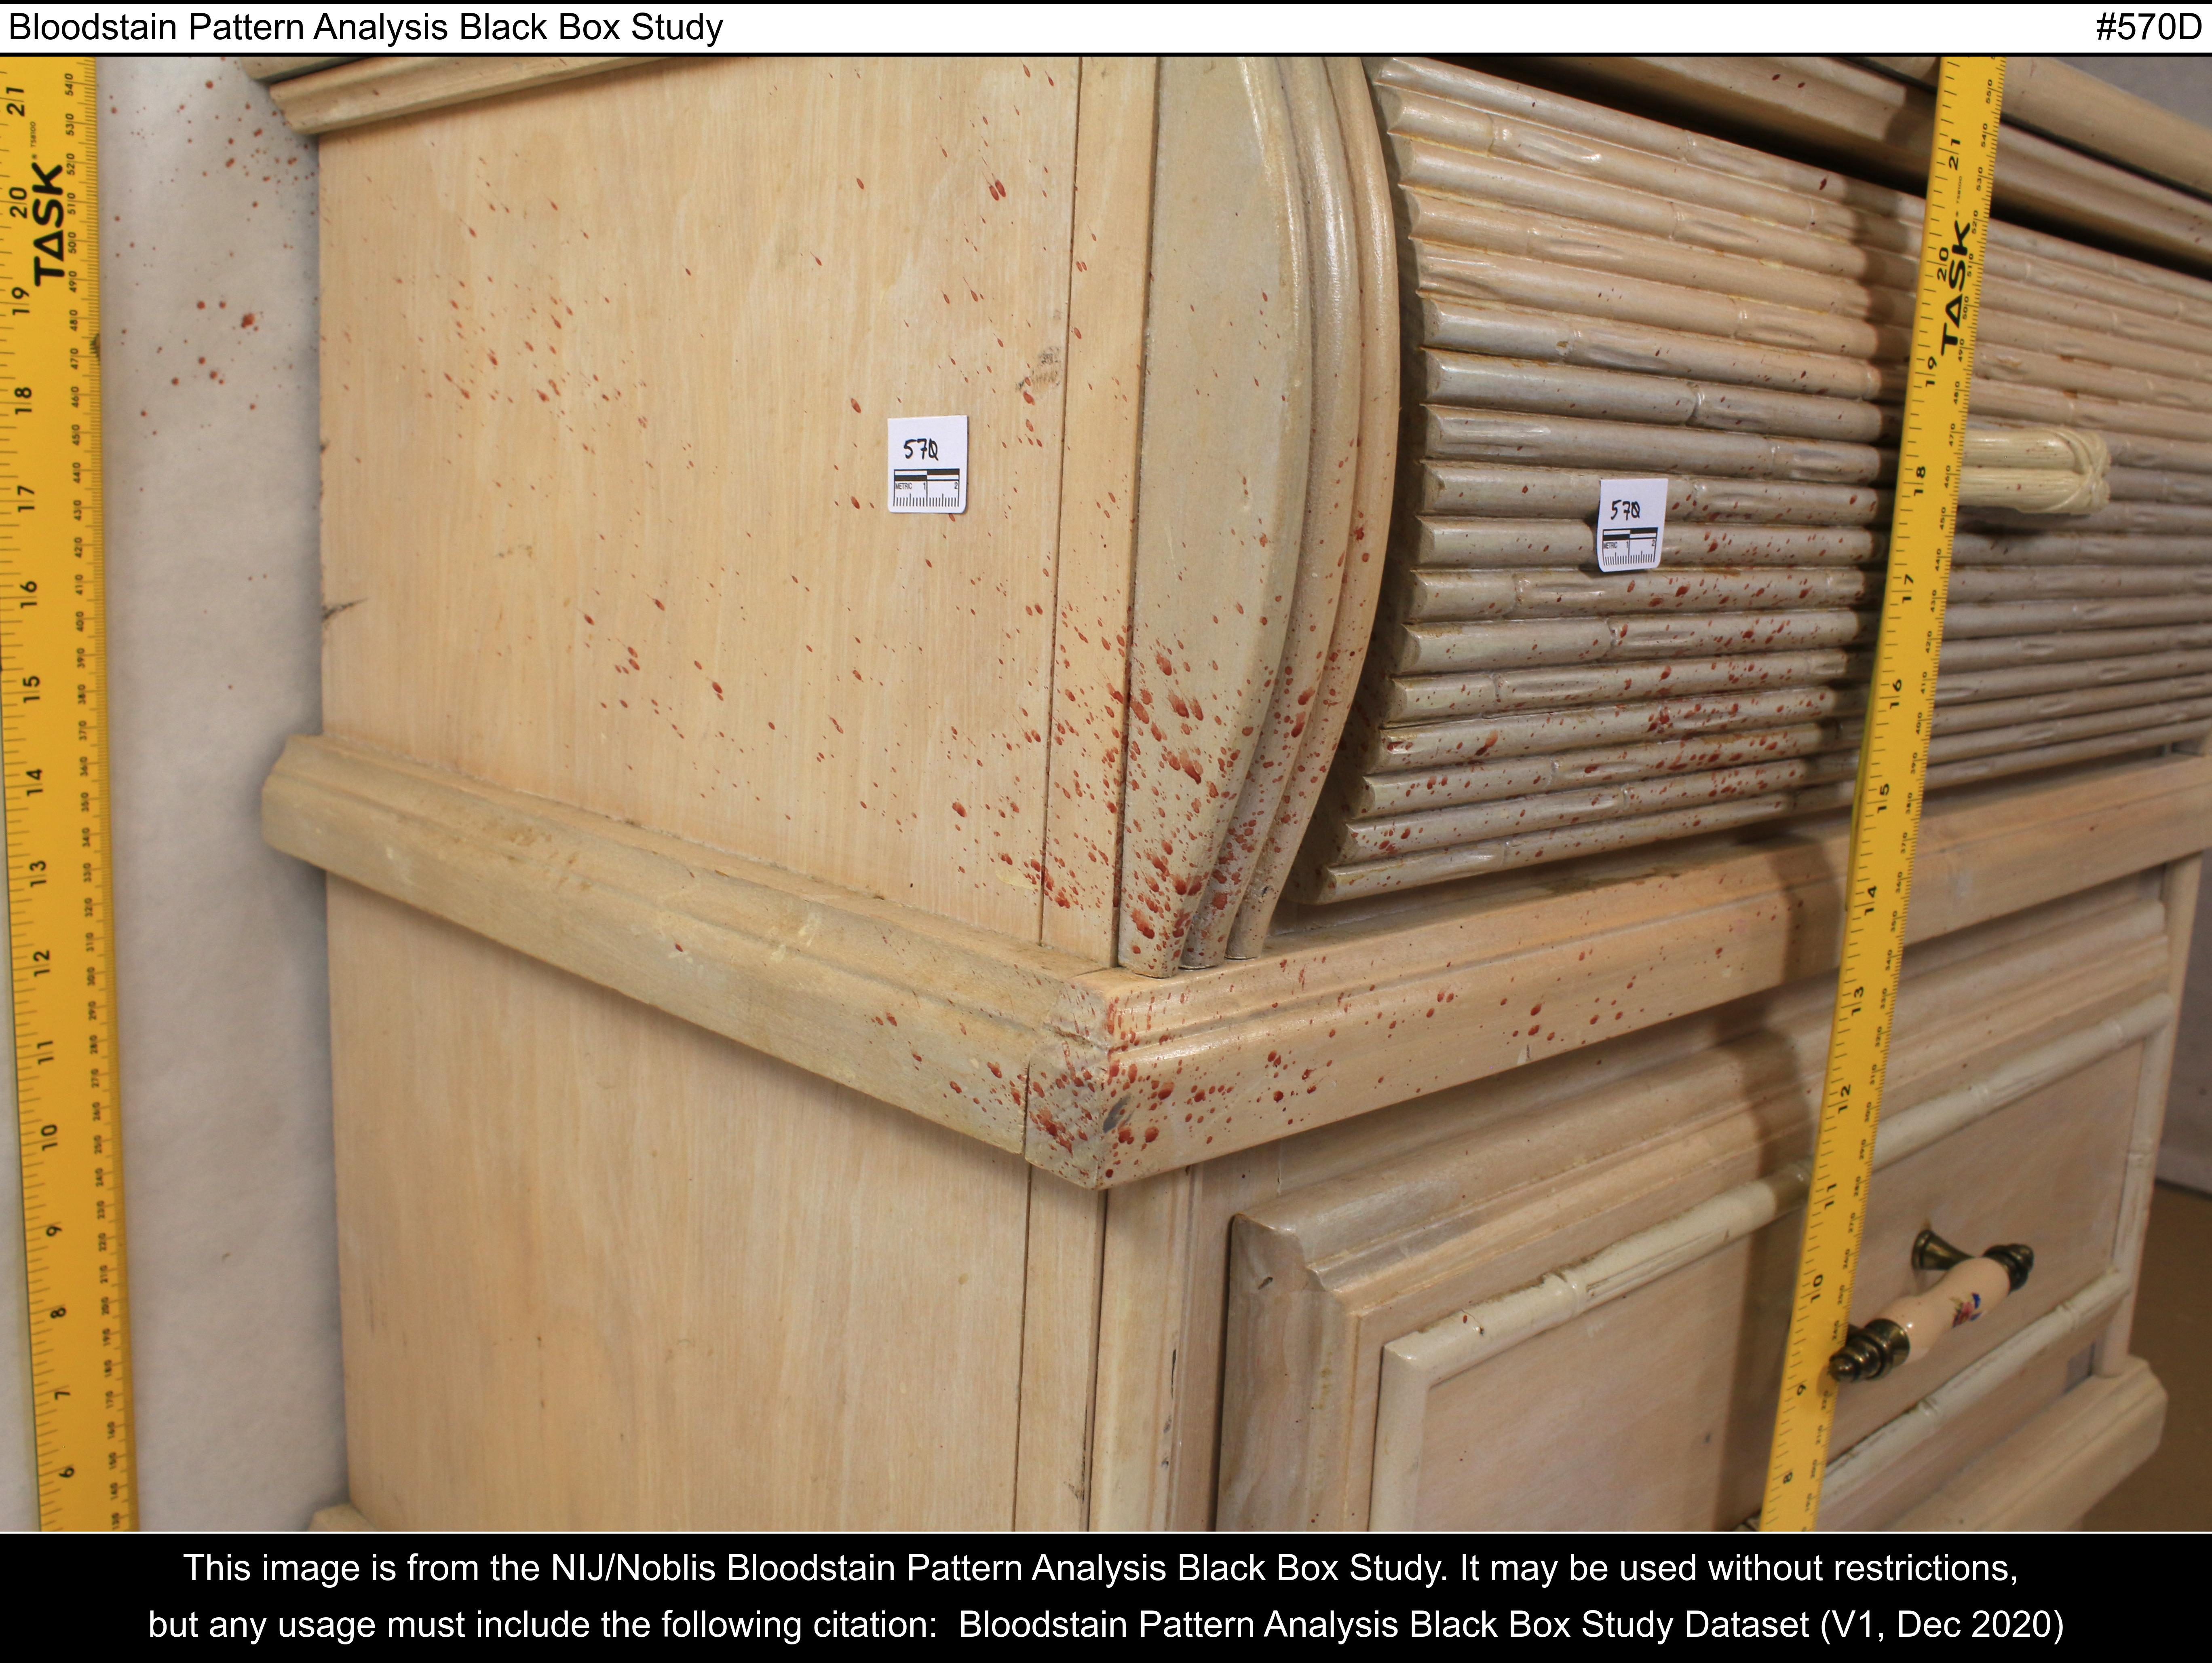Impact: (927, 601, 1704, 1193), (105, 91, 260, 437)
